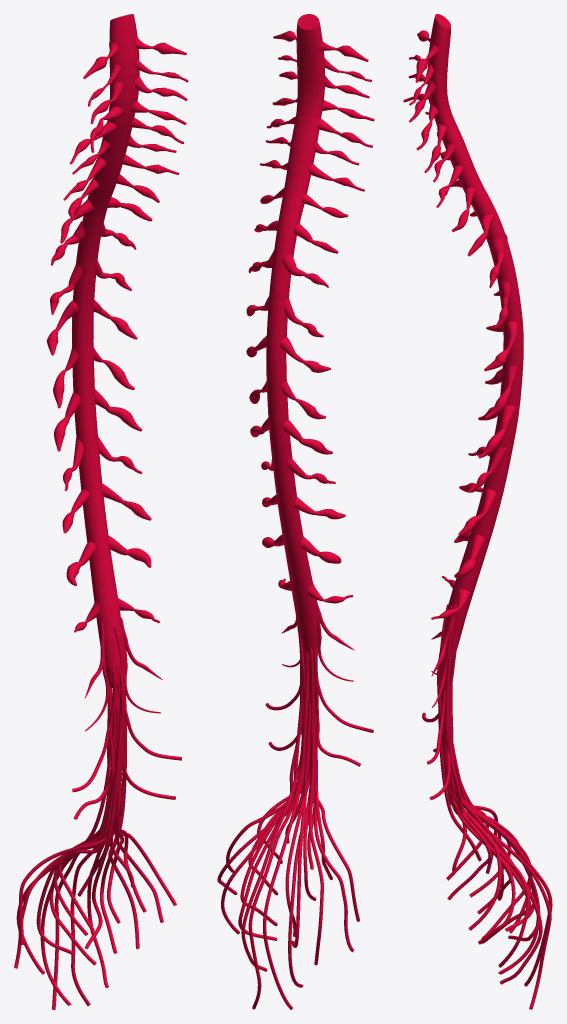
Rendered from cord.gltf.
3 renders of one model, left to right at view 1: azimuth 30°, elevation 25°; view 2: azimuth 150°, elevation 25°; view 3: azimuth 270°, elevation 25°, orthographic. The views are drawn at different scales.
Parts seen in each view (by area): view 1: BezierCurve.002; view 2: BezierCurve.002; view 3: BezierCurve.002.
Part boxes in pixels (box(x1,y1,x2,y2)): BezierCurve.002: box(14, 14, 188, 1009); BezierCurve.002: box(217, 14, 374, 1009); BezierCurve.002: box(403, 14, 552, 1009).
Size of the model in its own units: 78.85 by 528 by 72.18.
